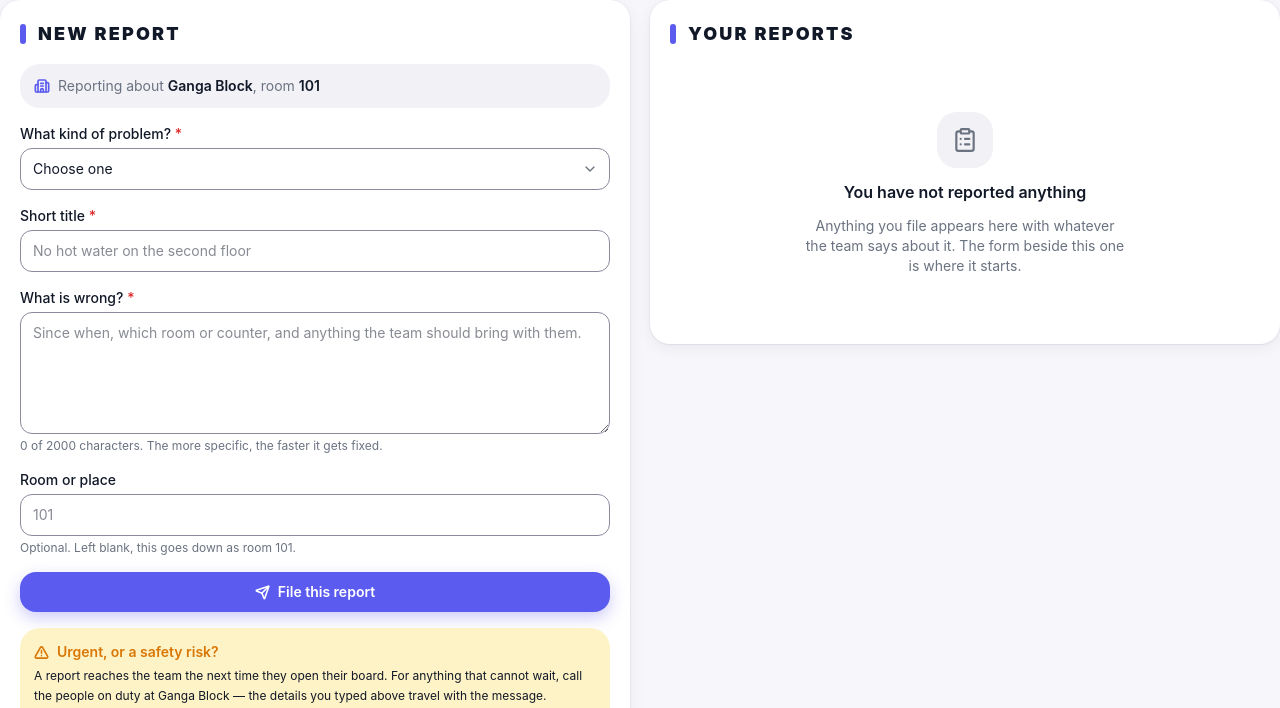
ReportPanel › files a report against the right facility and shows the reference back
Select "Water" in the dropdown labelled "What kind of problem? *" at [315, 169], box [20,148,610,190]
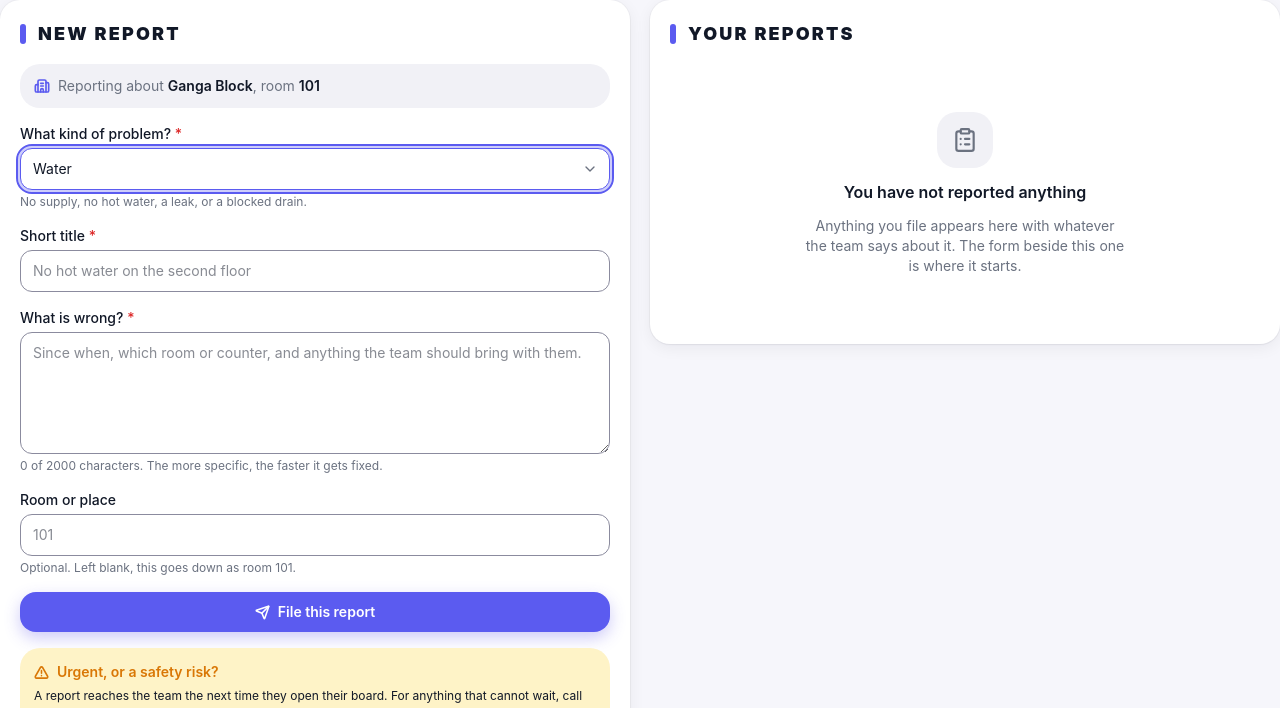
Type "No hot water" into the field labelled "Short title *".
click(315, 271); type("No hot water")  # box [20,250,610,292]
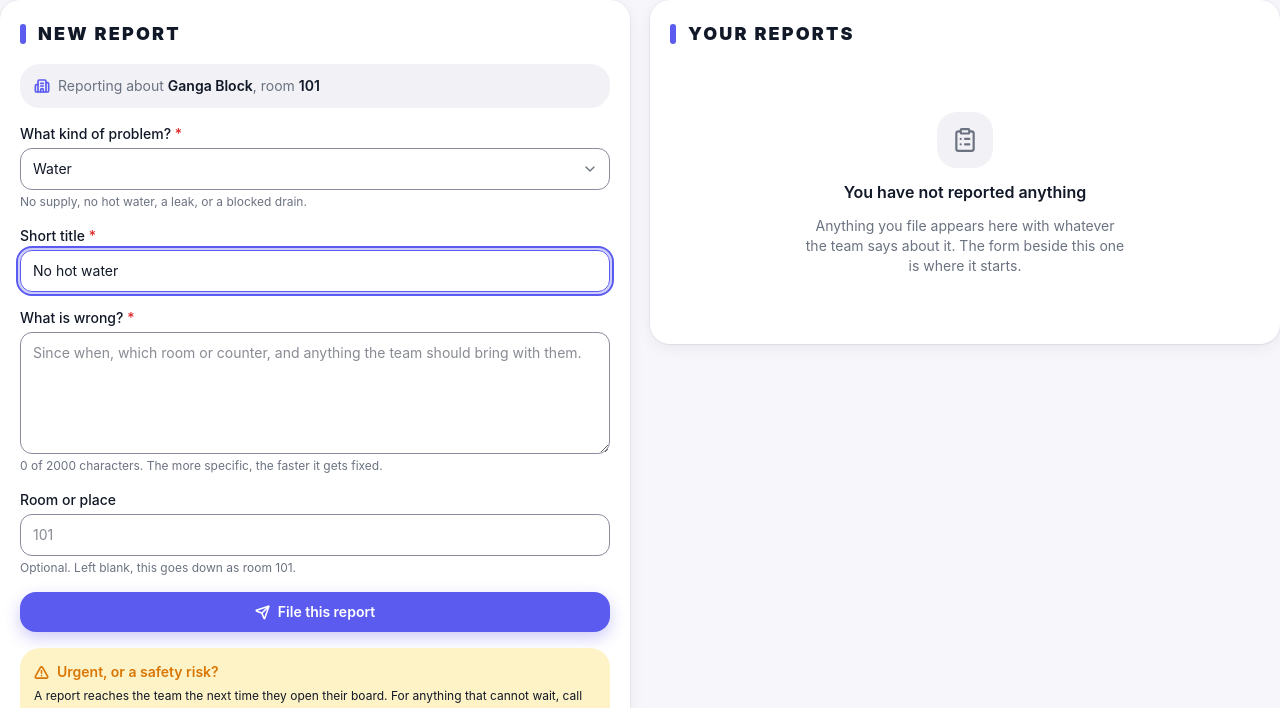
Type "Cold since 6am." into the text box labelled "What is wrong? *".
click(315, 393); type("Cold since 6am.")  # box [20,332,610,454]
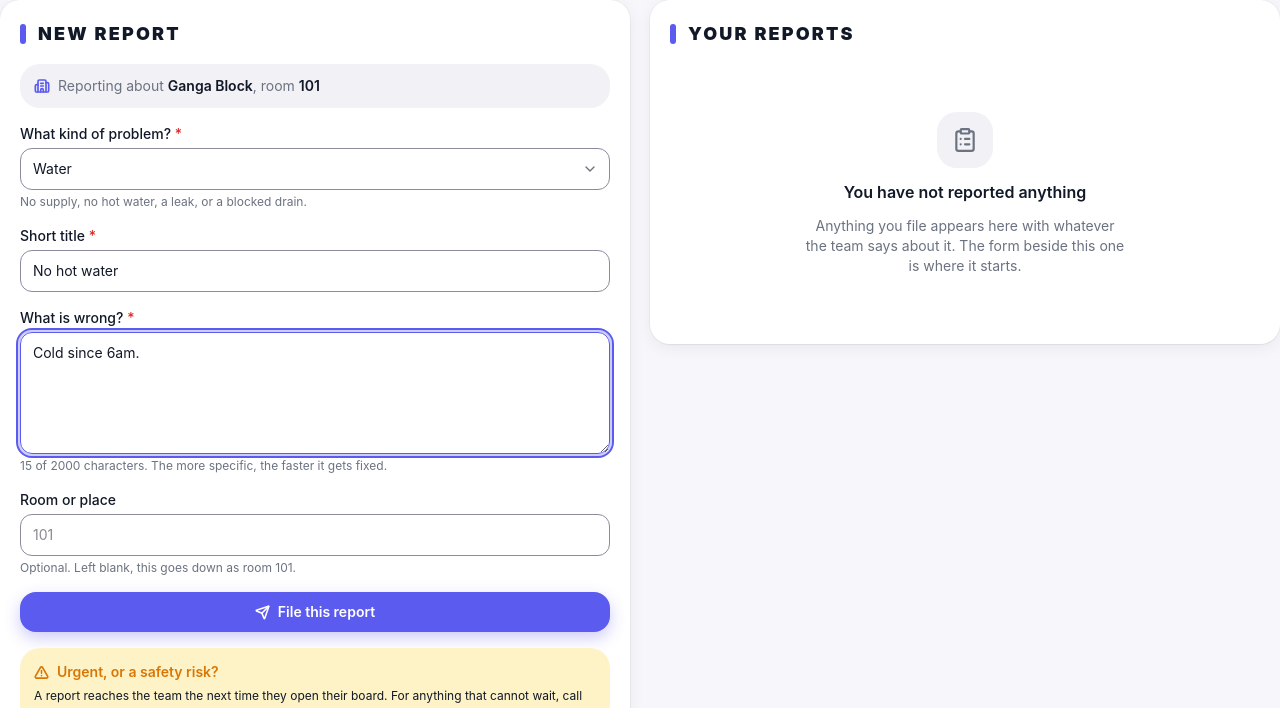
Click the button "File this report".
click(315, 612)  # box [20,592,610,632]
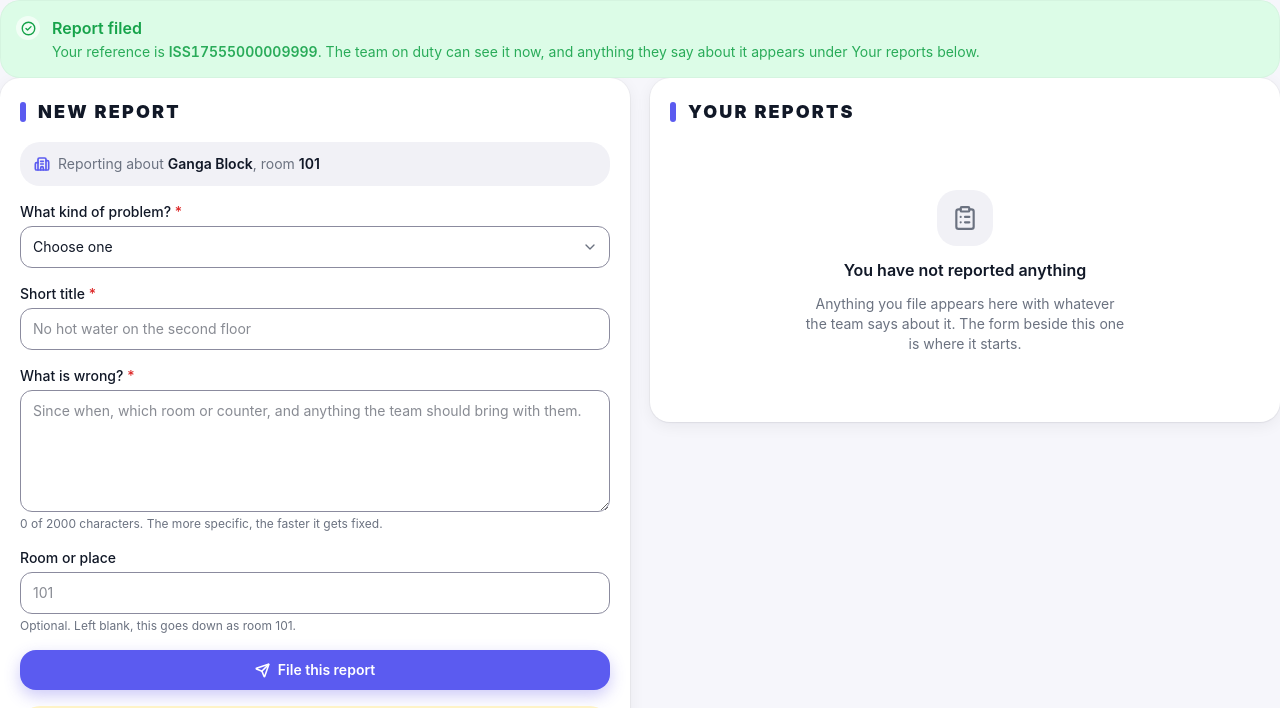
Result: the text "ISS17555000009999" is shown at [169,43,318,60]
